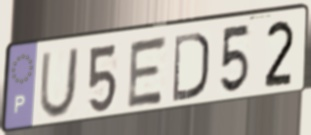2: (263, 18, 296, 89)
5: (217, 21, 254, 97), (86, 40, 120, 114)
D: (171, 29, 211, 104)
E: (124, 33, 170, 111)
U: (37, 45, 81, 121)
